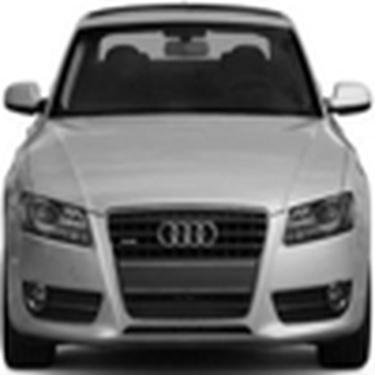car: (2, 8, 373, 373)
